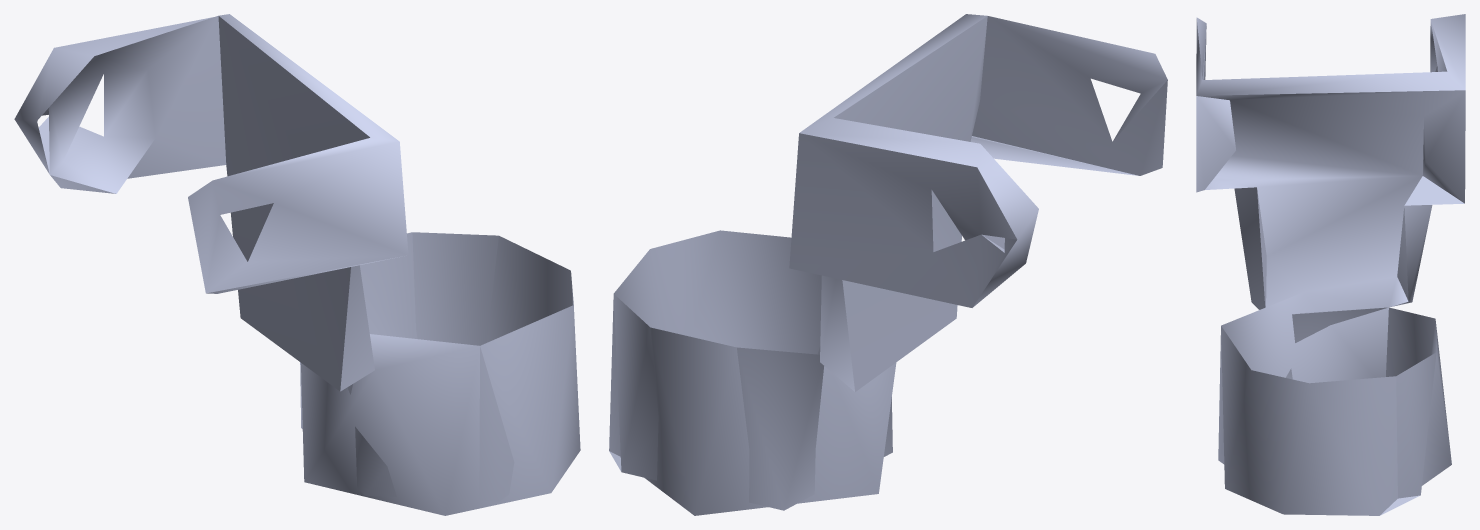
3 views of the same model, side by side, from view 1: azimuth 30°, elevation 25°; view 2: azimuth 150°, elevation 25°; view 3: azimuth 270°, elevation 25° (orthographic). The views are drawn at different scales.
Visible parts, largest first — view 1: link4_stl; view 2: link4_stl; view 3: link4_stl.
Boxes of the visible parts, bbox=[...] form: link4_stl: bbox=[14, 14, 580, 515]; link4_stl: bbox=[609, 14, 1167, 515]; link4_stl: bbox=[1196, 14, 1465, 515].
Size of the model in its own units: 0.118 by 0.0745 by 0.104.
